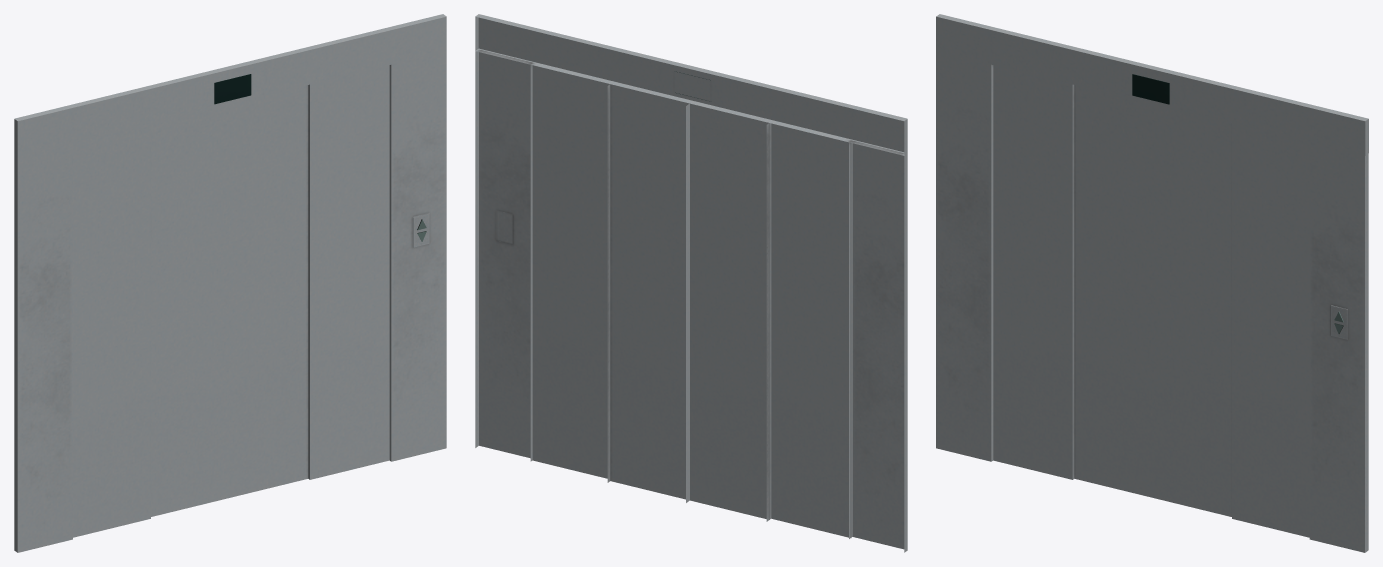
The model's file is Arch_ServiceLift.FBX.
The picture shows the model from 3 angles, left to right: view 1: azimuth 30°, elevation 25°; view 2: azimuth 150°, elevation 25°; view 3: azimuth 330°, elevation 25°; orthographic projection.
Visible parts, largest first — view 1: Arch_ServiceLift, DoorOutside_R1, DoorOutside_R2, DoorOutside_L1, DoorOutside_L2; view 2: Arch_ServiceLift, DoorOutside_L1, DoorOutside_R2, DoorOutside_L2, DoorOutside_R1; view 3: Arch_ServiceLift, DoorOutside_L1, DoorOutside_L2, DoorOutside_R1, DoorOutside_R2.
Part boxes in pixels (x1,y1,x2,y2): Arch_ServiceLift: (14,14,446,552); DoorOutside_R1: (308,65,389,479); DoorOutside_R2: (229,85,308,497); DoorOutside_L1: (73,123,150,537); DoorOutside_L2: (151,104,228,516); Arch_ServiceLift: (475,14,907,552); DoorOutside_L1: (766,123,851,537); DoorOutside_R2: (610,84,689,502); DoorOutside_L2: (686,103,769,519); DoorOutside_R1: (532,65,610,482); Arch_ServiceLift: (936,14,1368,552); DoorOutside_L1: (993,65,1074,479); DoorOutside_L2: (1074,85,1153,497); DoorOutside_R1: (1232,123,1309,537); DoorOutside_R2: (1154,104,1231,516).
Bounding box in the file's own units: 260 × 250 × 8.72.
